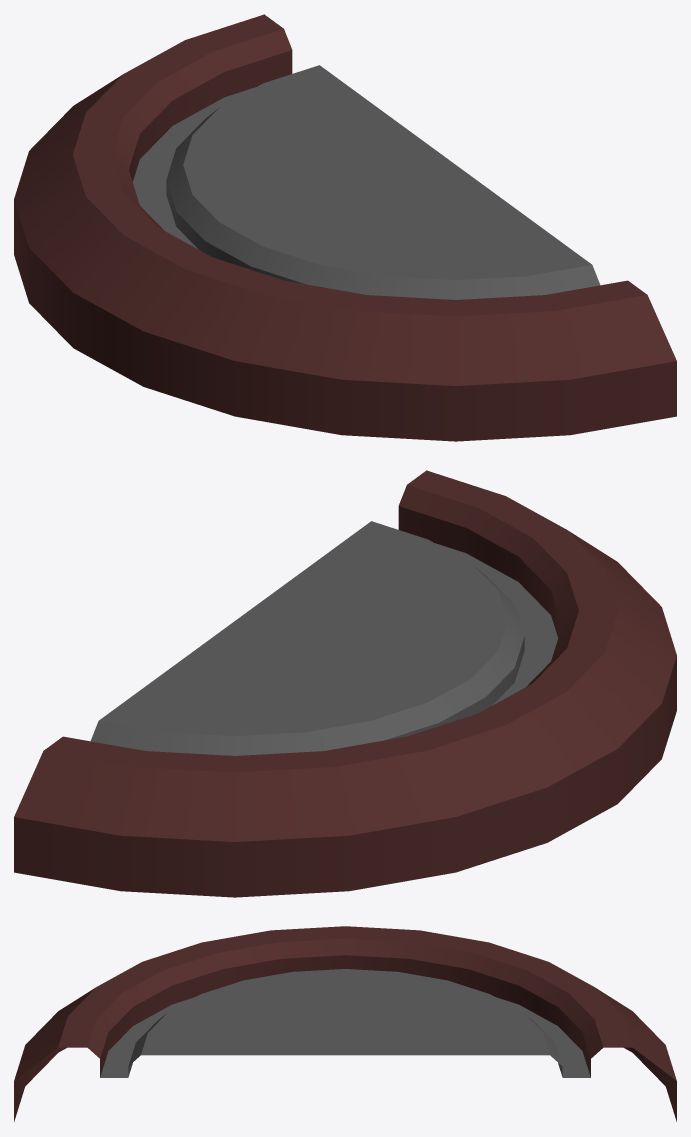
File: tfRound_Half.fbx
The picture shows the model from 3 angles, top to bottom: view 1: azimuth 30°, elevation 25°; view 2: azimuth 150°, elevation 25°; view 3: azimuth 270°, elevation 25°; orthographic projection. The views are drawn at different scales.
Parts seen in each view (by area): view 1: pCylinder2; view 2: pCylinder2; view 3: pCylinder2.
Boxes of the visible parts, x1,y1,x2,y2 form: pCylinder2: (14, 14, 676, 441); pCylinder2: (14, 470, 676, 897); pCylinder2: (14, 926, 676, 1121).
Size of the model in its own units: 100 by 25 by 200.
